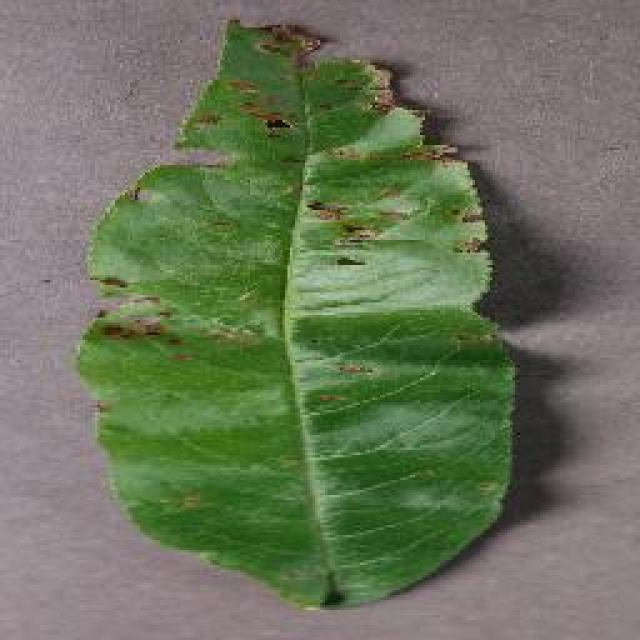Peach_Bacterial_Spot: (158, 5, 512, 350)
